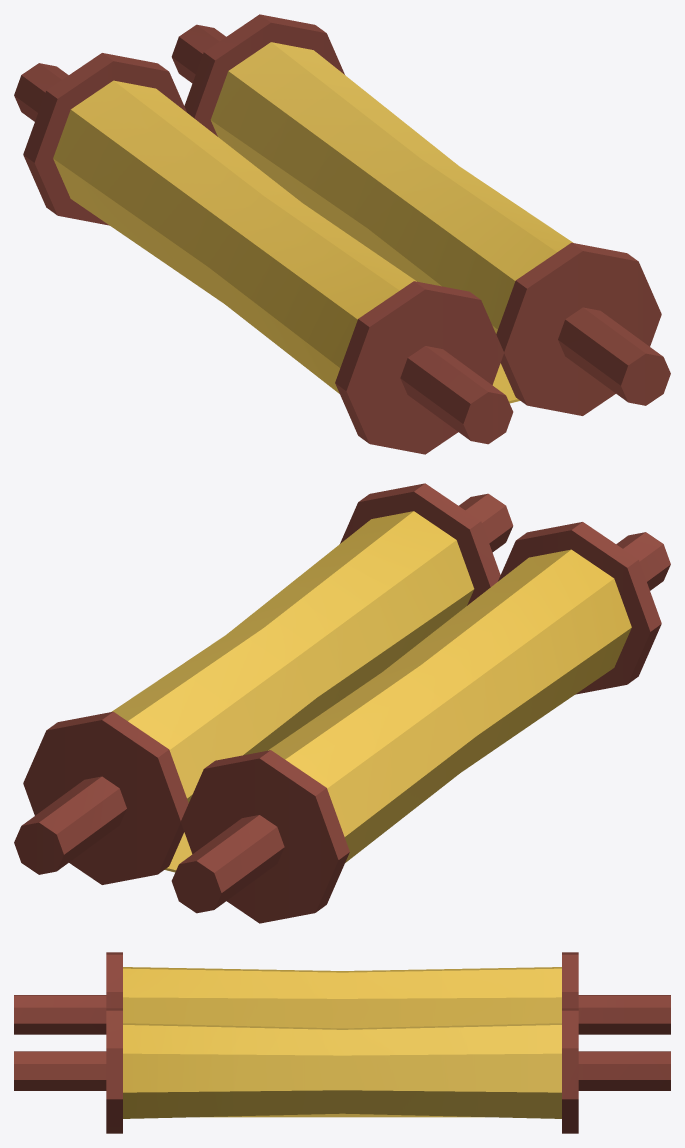
Rendered from Scroll_close.fbx.
The picture shows the model from 3 angles, top to bottom: view 1: azimuth 30°, elevation 25°; view 2: azimuth 150°, elevation 25°; view 3: azimuth 270°, elevation 25°; orthographic projection. The views are drawn at different scales.
Parts seen in each view (by area): view 1: Scroll_close; view 2: Scroll_close; view 3: Scroll_close.
Part boxes in pixels (bbox=[...]): Scroll_close: bbox=[14, 14, 670, 454]; Scroll_close: bbox=[14, 483, 670, 923]; Scroll_close: bbox=[14, 952, 670, 1133].
Size of the model in its own units: 0.2026 by 0.1014 by 0.5.
Materials: 1 (1 with a texture image).
